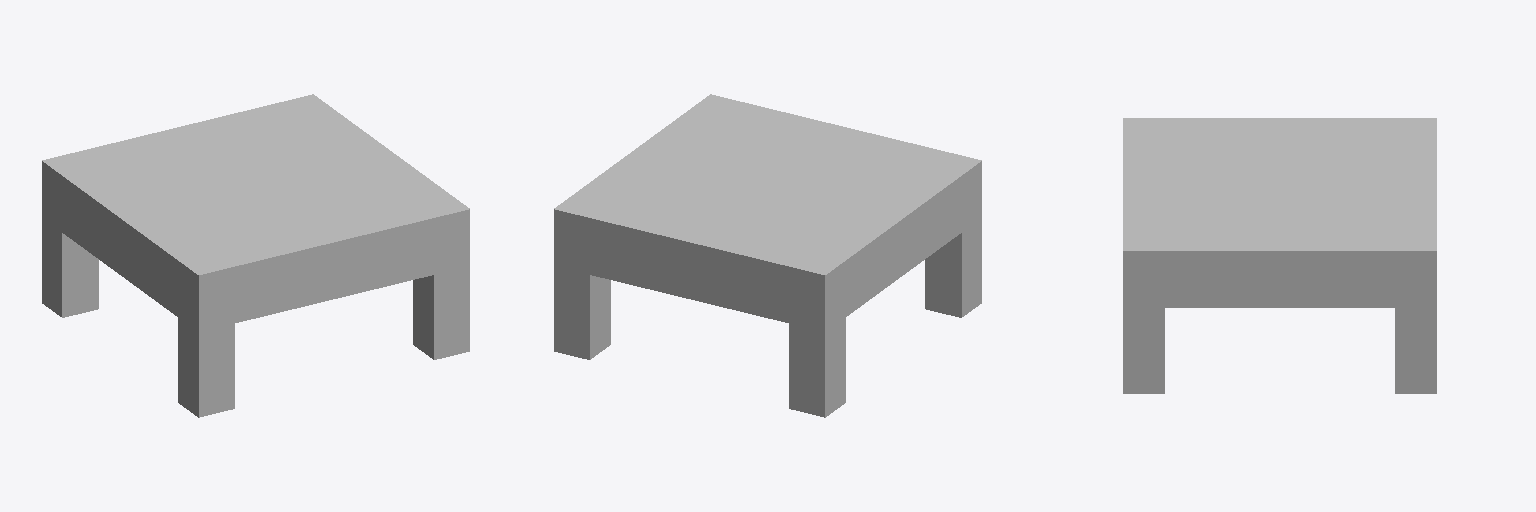
The model's file is CoffeeTable.obj.
3 views of the same model, side by side, from view 1: azimuth 30°, elevation 25°; view 2: azimuth 150°, elevation 25°; view 3: azimuth 270°, elevation 25° (orthographic).
Visible parts, largest first — view 1: CoffeeTable; view 2: CoffeeTable; view 3: CoffeeTable.
Boxes of the visible parts, <box> form: CoffeeTable: <box>42,94,469,417</box>; CoffeeTable: <box>554,94,981,417</box>; CoffeeTable: <box>1123,118,1436,393</box>.
Bounding box in the file's own units: 1 × 0.5 × 1.